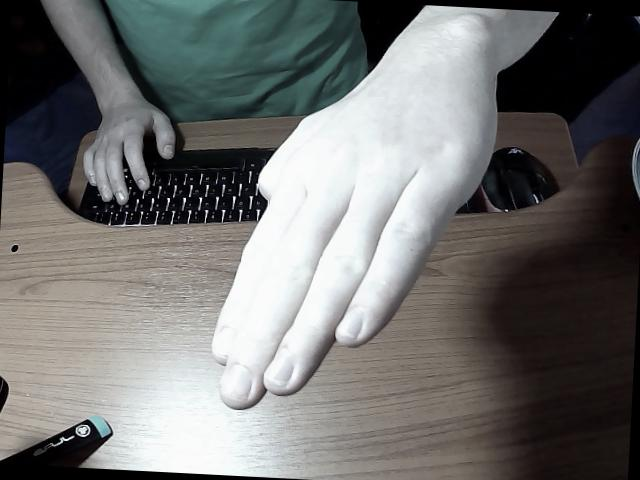paper: (214, 8, 555, 408)
